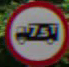Heavy Vehicles: (5, 4, 65, 58)
